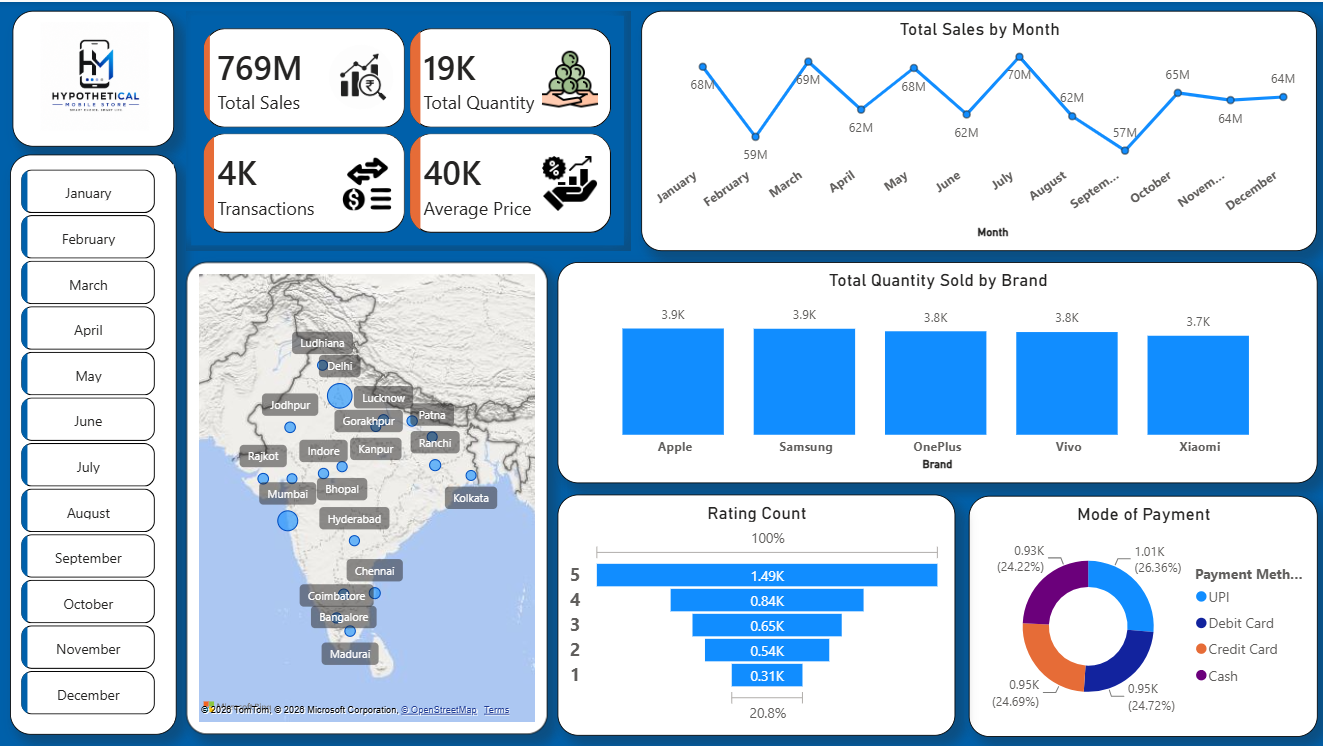

The page's visual inventory and layout, read from the dashboard file:
{"tool":"powerbi","page":{"name":"Page 1","canvas":[1280,720],"ordinal":0},"visuals":[{"type":"shape","box":[12.1,8.4,155.6,131.5],"z":1500},{"type":"shape","box":[9.7,147.2,160.5,559.8],"z":2000},{"type":"advancedSlicerVisual","fields":{"Values":["Sheet1.Date.Variation.Date Hierarchy.Month"]},"box":[15.7,156.8,152,539.3],"z":3000},{"type":"cardVisual","fields":{"Data":["sales data.total sales","sales data.Total Quantity","sales data.Transactions","sales data.Average Price"]},"box":[180.3,8.7,428.5,232.3],"z":4000},{"type":"map","fields":{"Category":["sales data.City"],"Size":["sales data.total sales"]},"box":[180.3,251,349.1,455.9],"z":5000},{"type":"lineChart","title":"Total Sales by Month","fields":{"Category":["sales data.Date.Variation.Date Hierarchy.Month"],"Y":["sales data.total sales"]},"box":[618.9,8.7,652.1,232.3],"z":6000},{"type":"clusteredColumnChart","fields":{"Category":["sales data.Brand"],"Y":["sales data.Total Quantity"]},"box":[538.1,250.9,733.5,213.5],"z":7000},{"type":"donutChart","title":"Mode of Payment","fields":{"Category":["sales data.Payment Method"],"Y":["CountNonNull(sales data.Payment Method)"]},"box":[935,476.5,336.6,232.8],"z":8000},{"type":"funnel","title":"Rating Count","fields":{"Category":["sales data.Customer Ratings"],"Y":["CountNonNull(sales data.Customer Ratings)"]},"box":[538.1,475.3,383.6,232.8],"z":9000},{"type":"image","box":[15.7,19.3,152,105],"z":9500}]}

Visuals, with their boxes in screenshot pixels (x1, y1, x2, y2), scaled from the page's 1280x720 canvas onto the 1323x746 screenshot:
shape: x1=13, y1=9, x2=173, y2=145
shape: x1=10, y1=153, x2=176, y2=733
advancedSlicerVisual - Sheet1.Date.Variation.Date Hierarchy.Month: x1=16, y1=162, x2=173, y2=721
cardVisual - sales data.total sales x sales data.Total Quantity: x1=186, y1=9, x2=629, y2=250
map - sales data.City x sales data.total sales: x1=186, y1=260, x2=547, y2=732
"Total Sales by Month" lineChart: x1=640, y1=9, x2=1314, y2=250
clusteredColumnChart - sales data.Brand x sales data.Total Quantity: x1=556, y1=260, x2=1314, y2=481
"Mode of Payment" donutChart: x1=966, y1=494, x2=1314, y2=735
"Rating Count" funnel: x1=556, y1=492, x2=953, y2=734
image: x1=16, y1=20, x2=173, y2=129
